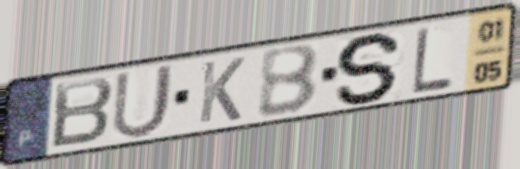B: (256, 42, 322, 121), (49, 75, 116, 152)
K: (196, 54, 248, 126)
L: (409, 24, 454, 95)
S: (333, 30, 407, 106)
U: (109, 61, 178, 141)
